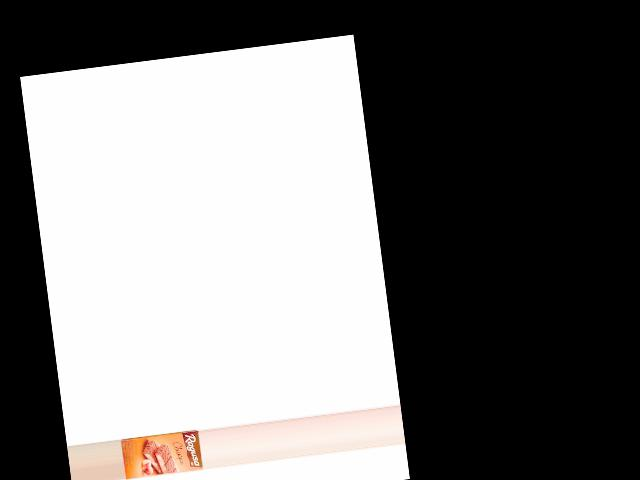chocolate: (119, 427, 202, 480)
